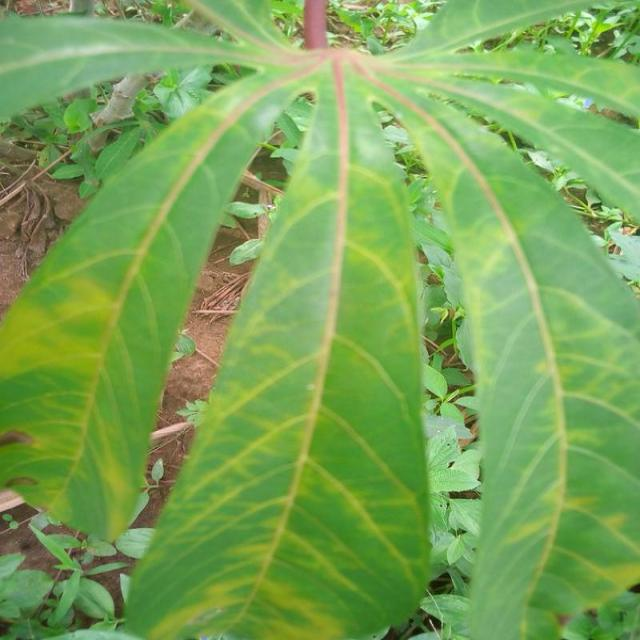cassava leaf: (2, 1, 639, 637), (122, 52, 434, 638), (2, 58, 308, 545)
